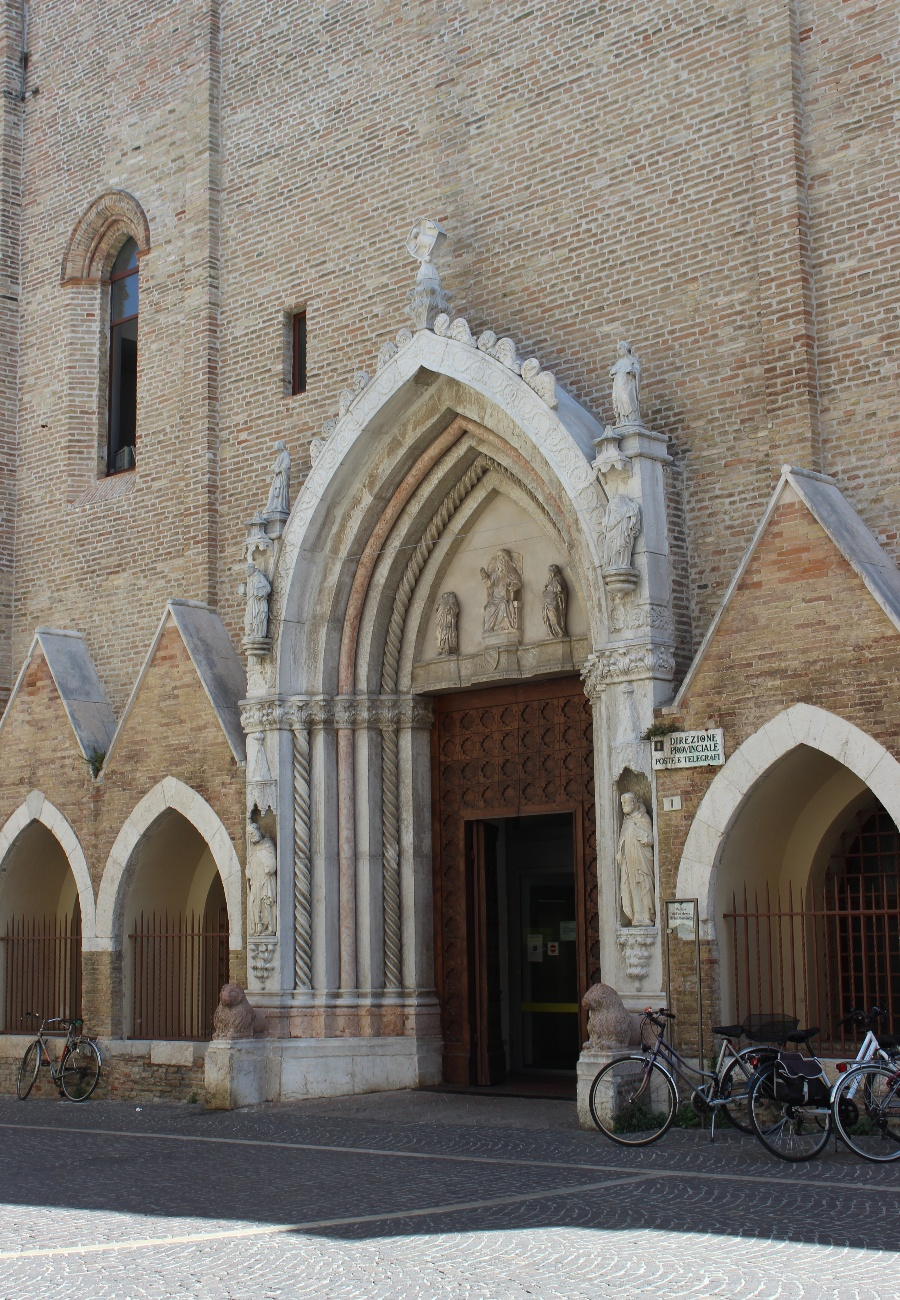Portale San Domenico: (206, 215, 676, 1072)
